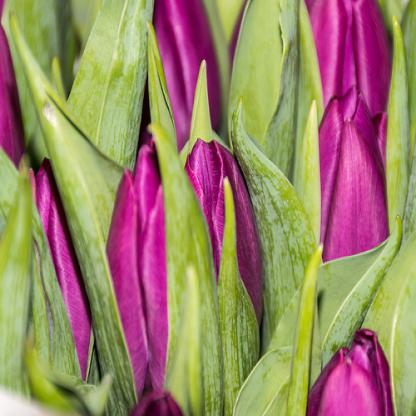TULIP: (6, 20, 410, 403)
